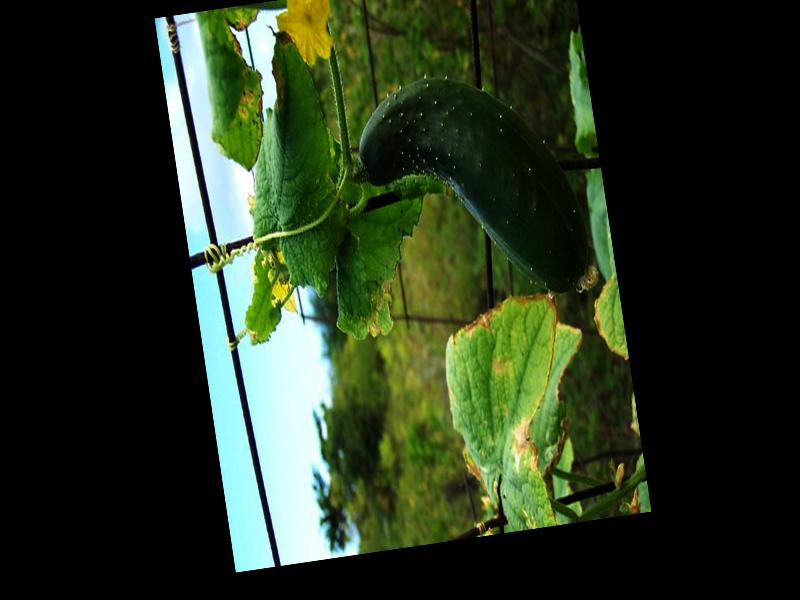Cucumber: (347, 60, 595, 322)
